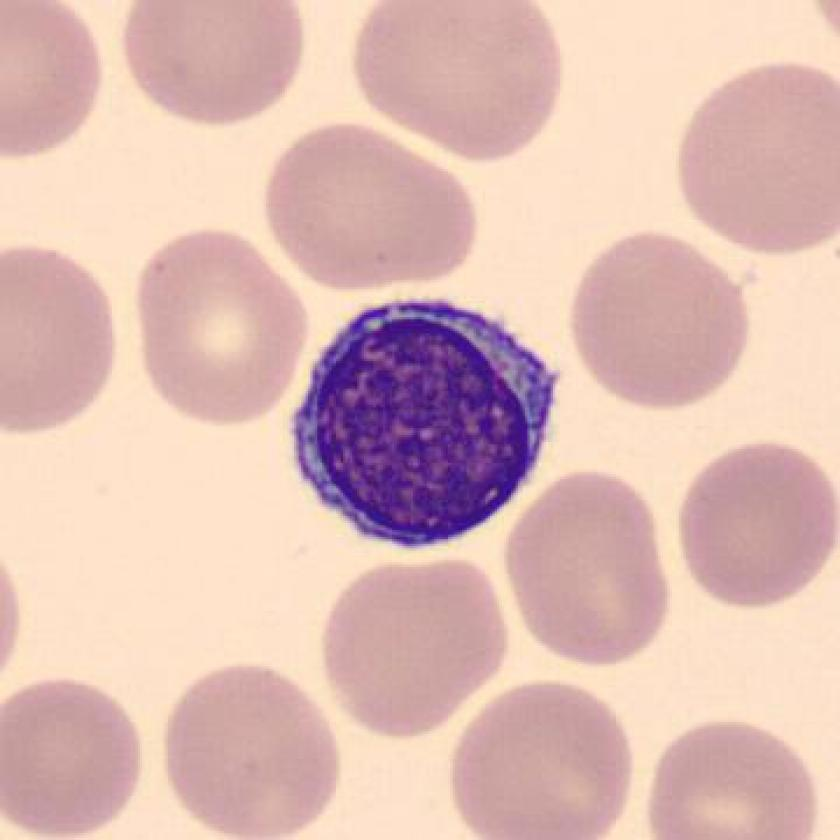lymphocyte: (272, 281, 582, 566)
